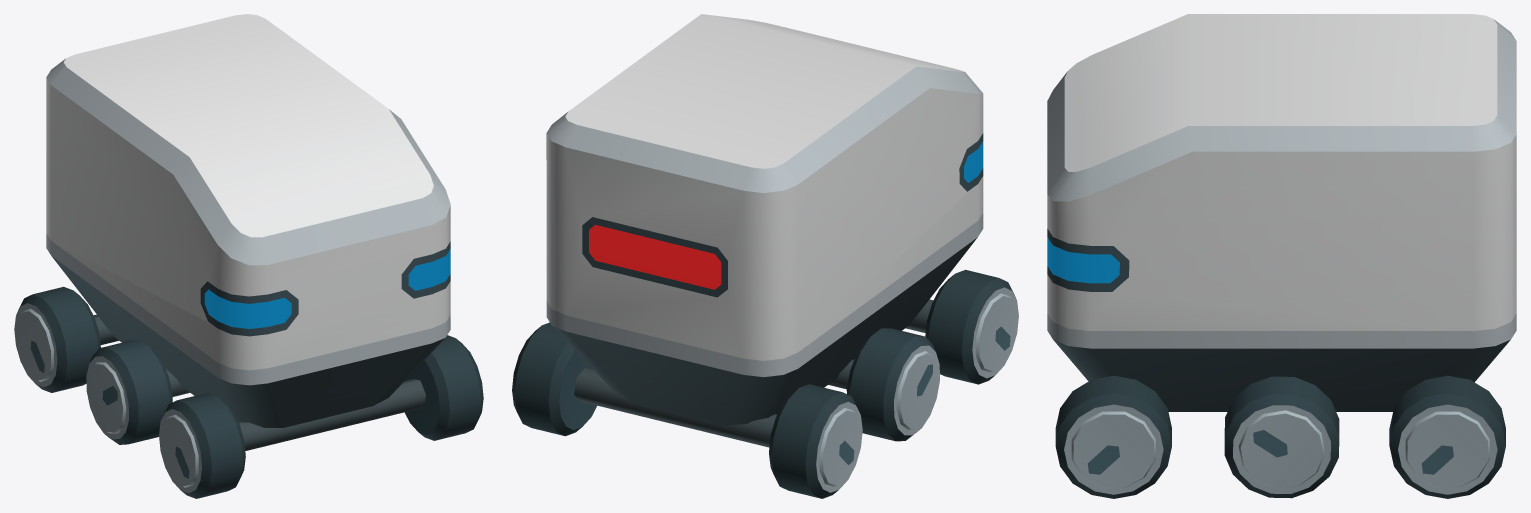
File: Delivery_drone_002.glb
The picture shows the model from 3 angles, left to right: view 1: azimuth 30°, elevation 25°; view 2: azimuth 150°, elevation 25°; view 3: azimuth 270°, elevation 25°; orthographic projection. The views are drawn at different scales.
Visible parts, largest first — view 1: Delivery_drone_002; view 2: Delivery_drone_002; view 3: Delivery_drone_002.
Boxes of the visible parts, left/top/right/bottom form: Delivery_drone_002: left=14, top=14, right=483, bottom=498; Delivery_drone_002: left=512, top=14, right=1018, bottom=498; Delivery_drone_002: left=1047, top=14, right=1516, bottom=498.
Size of the model in its own units: 0.6912 by 0.7055 by 0.85.
2 materials, 2 textured.
